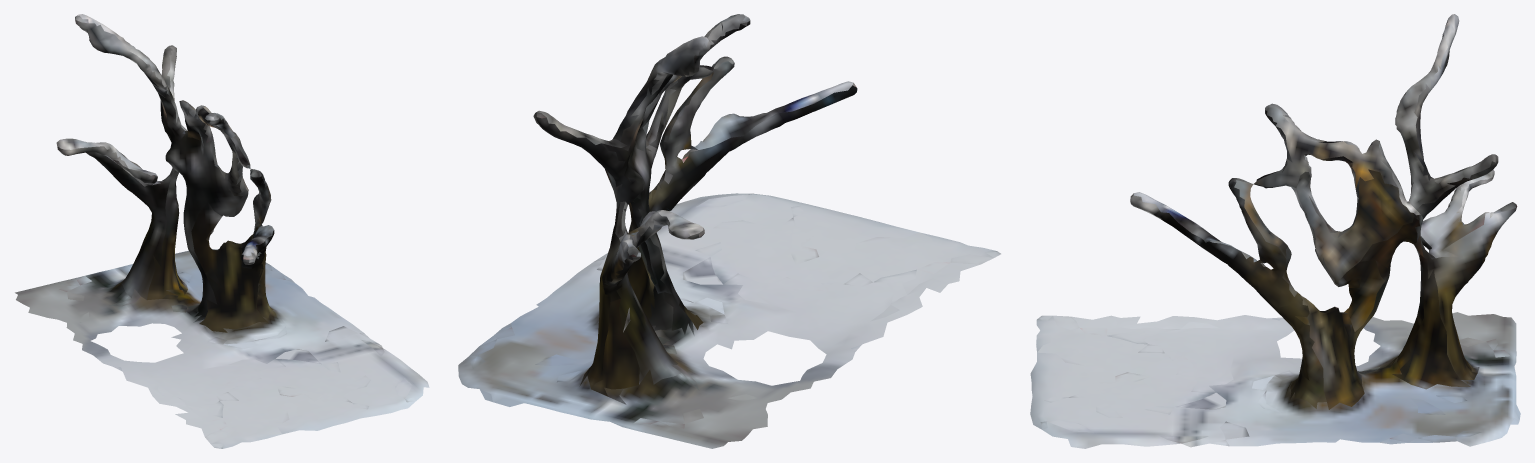
3 renders of one model, left to right at view 1: azimuth 30°, elevation 25°; view 2: azimuth 150°, elevation 25°; view 3: azimuth 270°, elevation 25°, orthographic. The views are drawn at different scales.
Visible parts, largest first — view 1: input.007; view 2: input.007; view 3: input.007.
Boxes of the visible parts, x1,y1,x2,y2 form: input.007: [15, 14, 429, 448]; input.007: [458, 14, 1000, 448]; input.007: [1030, 14, 1520, 448].
Size of the model in its own units: 7.28 by 8.65 by 11.57.
